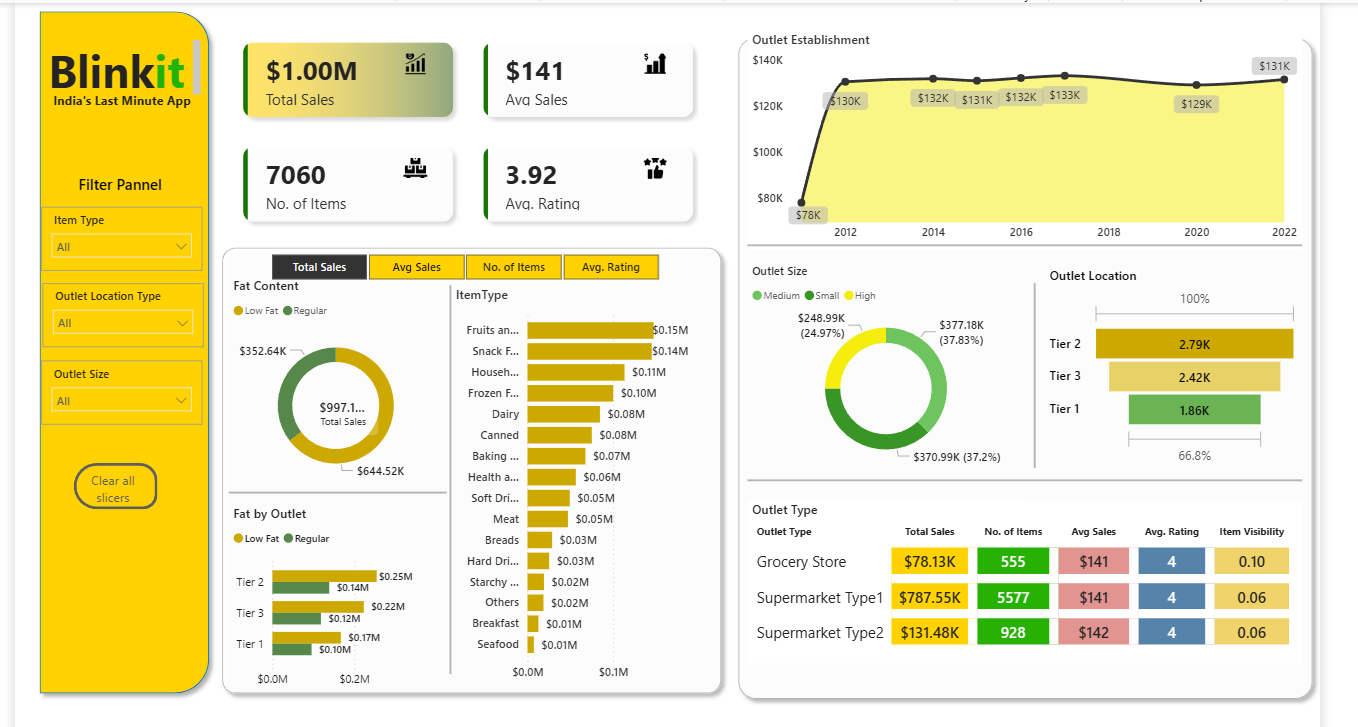

The dashboard page shown, as its layout file describes it:
{"tool":"powerbi","page":{"name":"Page 1","canvas":[1400,800],"ordinal":0},"visuals":[{"type":"shape","box":[17.4,0,199.7,749.3],"z":0},{"type":"textbox","box":[30.8,34.9,172.9,71],"z":1000},{"type":"textbox","box":[36.2,89.8,159.5,30.8],"z":2000},{"type":"cardVisual","fields":{"Data":["BlinkIT Grocery Data.Total Sales","BlinkIT Grocery Data.Avg Sales","BlinkIT Grocery Data.No. of Items","BlinkIT Grocery Data.Avg. Rating"]},"box":[215.6,13,541.6,251.9],"z":3000},{"type":"shape","box":[213,253.2,553.2,496.1],"z":4000},{"type":"donutChart","title":"Fat Content","fields":{"Y":["BlinkIT Grocery Data.Total Sales"],"Category":["BlinkIT Grocery Data.Item Fat Content"]},"box":[229.9,293.5,229.9,231.2],"z":5000},{"type":"slicer","fields":{"Values":["Matrics.Matrics"]},"box":[249.3,262.7,465.1,40.2],"z":6000},{"type":"cardVisual","fields":{"Data":["BlinkIT Grocery Data.Total Sales"]},"box":[297.6,399.5,109.9,81.8],"z":7000},{"type":"clusteredBarChart","title":"Fat by Outlet","fields":{"Y":["BlinkIT Grocery Data.Total Sales"],"Category":["BlinkIT Grocery Data.Outlet Location Type"],"Series":["BlinkIT Grocery Data.Item Fat Content"]},"box":[229.9,537.7,219.5,205.2],"z":8000},{"type":"shape","box":[229.9,511.7,233.8,26],"z":9000},{"type":"shape","box":[461,302.6,11.7,416.9],"z":10000},{"type":"barChart","title":"ItemType","fields":{"Y":["BlinkIT Grocery Data.Total Sales"],"Category":["BlinkIT Grocery Data.Item Type"]},"box":[467.5,302.6,276.6,432.5],"z":11000},{"type":"shape","box":[766.2,28.6,633.8,727.3],"z":12000},{"type":"lineChart","title":"Outlet Establishment ","fields":{"Y":["BlinkIT Grocery Data.Total Sales"],"Category":["BlinkIT Grocery Data.Outlet Establishment Year"]},"box":[785.7,29.9,594.8,235.1],"z":13000},{"type":"shape","box":[785.7,253.2,594.8,13],"z":14000},{"type":"donutChart","title":"Outlet Size","fields":{"Y":["BlinkIT Grocery Data.Total Sales"],"Category":["BlinkIT Grocery Data.Outlet Size"]},"box":[785.7,279.2,297.4,226],"z":15000},{"type":"funnel","title":"Outlet Location","fields":{"Category":["BlinkIT Grocery Data.Outlet Location Type"],"Y":["CountNonNull(BlinkIT Grocery Data.Outlet Type)"]},"box":[1103.9,283.1,276.6,218.2],"z":16000},{"type":"shape","box":[1083.1,300,20.8,198.7],"z":17000},{"type":"shape","box":[785.7,505.2,594.8,13],"z":18000},{"type":"pivotTable","title":"Outlet Type","fields":{"Rows":["BlinkIT Grocery Data.Outlet Type"],"Values":["BlinkIT Grocery Data.Total Sales","BlinkIT Grocery Data.No. of Items","BlinkIT Grocery Data.Avg Sales","BlinkIT Grocery Data.Avg. Rating","Avg(BlinkIT Grocery Data.Item Visibility)"]},"box":[785.7,533.8,594.8,174],"z":19000},{"type":"slicer","fields":{"Values":["BlinkIT Grocery Data.Outlet Location Type"]},"box":[29.9,300,172.7,68.8],"z":20000},{"type":"slicer","fields":{"Values":["BlinkIT Grocery Data.Outlet Size"]},"box":[28.6,383.1,172.7,68.8],"z":21000},{"type":"slicer","fields":{"Values":["BlinkIT Grocery Data.Item Type"]},"box":[28.6,218.2,172.7,68.8],"z":22000},{"type":"textbox","box":[63.6,177.9,102.6,40.3],"z":23000},{"type":"actionButton","box":[63,493.3,89.8,49.6],"z":23001}]}

Visuals, with their boxes on the page's 1400x800 design canvas (x1, y1, x2, y2). These are canvas units, not pixel positions in the 1358x727 screenshot, which may show the page scaled, cropped or inside an application window:
shape: [17,0,217,749]
textbox: [31,35,204,106]
textbox: [36,90,196,121]
cardVisual - BlinkIT Grocery Data.Total Sales x BlinkIT Grocery Data.Avg Sales: [216,13,757,265]
shape: [213,253,766,749]
"Fat Content" donutChart: [230,294,460,525]
slicer - Matrics.Matrics: [249,263,714,303]
cardVisual - BlinkIT Grocery Data.Total Sales: [298,400,408,481]
"Fat by Outlet" clusteredBarChart: [230,538,449,743]
shape: [230,512,464,538]
shape: [461,303,473,720]
"ItemType" barChart: [468,303,744,735]
shape: [766,29,1400,756]
"Outlet Establishment " lineChart: [786,30,1380,265]
shape: [786,253,1380,266]
"Outlet Size" donutChart: [786,279,1083,505]
"Outlet Location" funnel: [1104,283,1380,501]
shape: [1083,300,1104,499]
shape: [786,505,1380,518]
"Outlet Type" pivotTable: [786,534,1380,708]
slicer - BlinkIT Grocery Data.Outlet Location Type: [30,300,203,369]
slicer - BlinkIT Grocery Data.Outlet Size: [29,383,201,452]
slicer - BlinkIT Grocery Data.Item Type: [29,218,201,287]
textbox: [64,178,166,218]
actionButton: [63,493,153,543]
